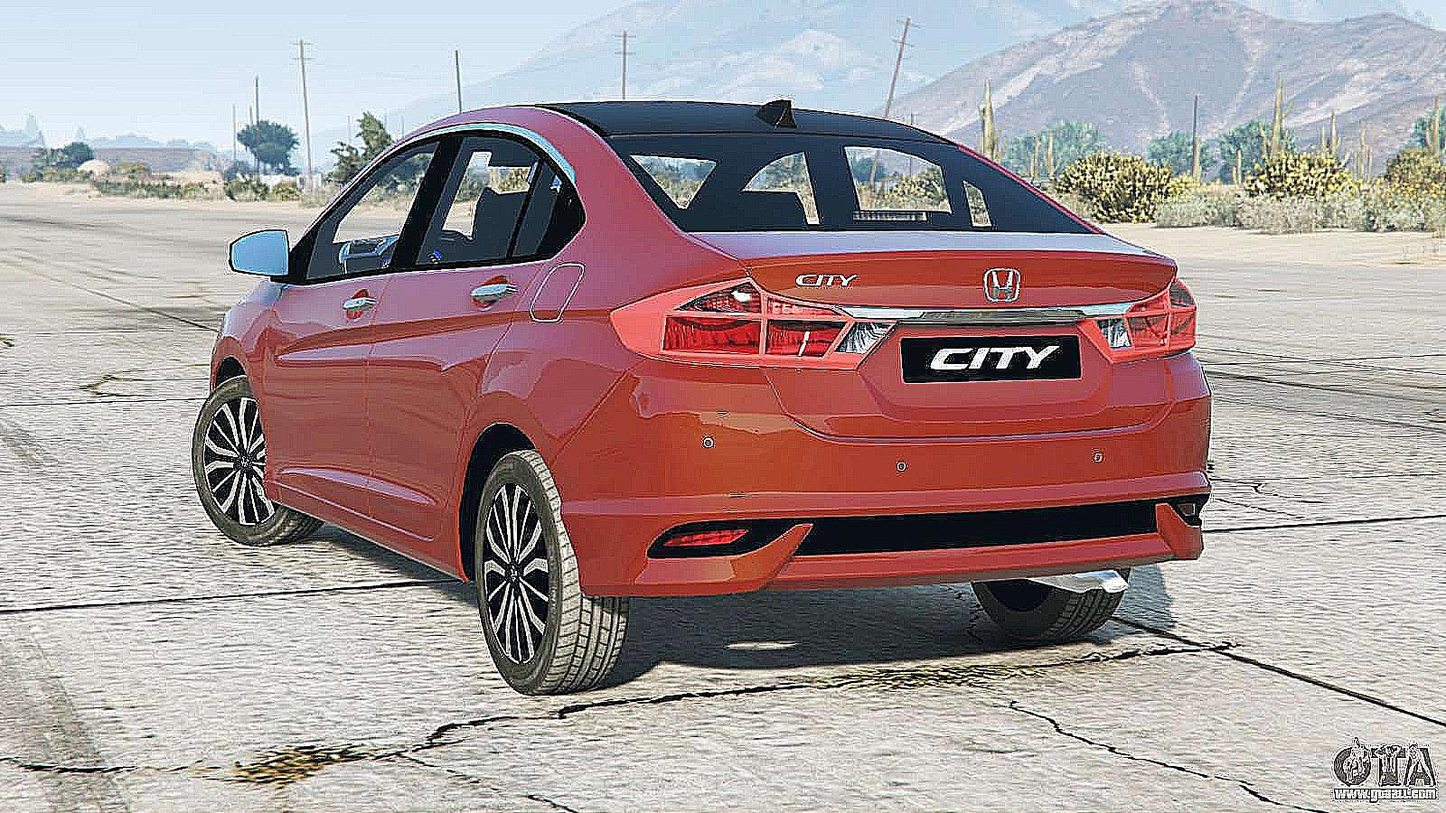Car boot: (696, 222, 1198, 436)
Fender - -F-L-: (206, 265, 287, 402)
Fender - -R-L-: (447, 190, 735, 537)
Passenger-s door - -F-L-: (257, 102, 455, 546)
Passenger-s door - -R-L-: (350, 92, 577, 561)
Rear bumper: (549, 361, 1220, 603)
Rear light - -L-: (610, 276, 898, 374)
Rear light - -R-: (1071, 271, 1196, 365)
Side bumper - -L-: (252, 457, 484, 591)
Side mirror - -L-: (226, 220, 300, 283)
